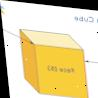cube: (17, 27, 85, 97)
